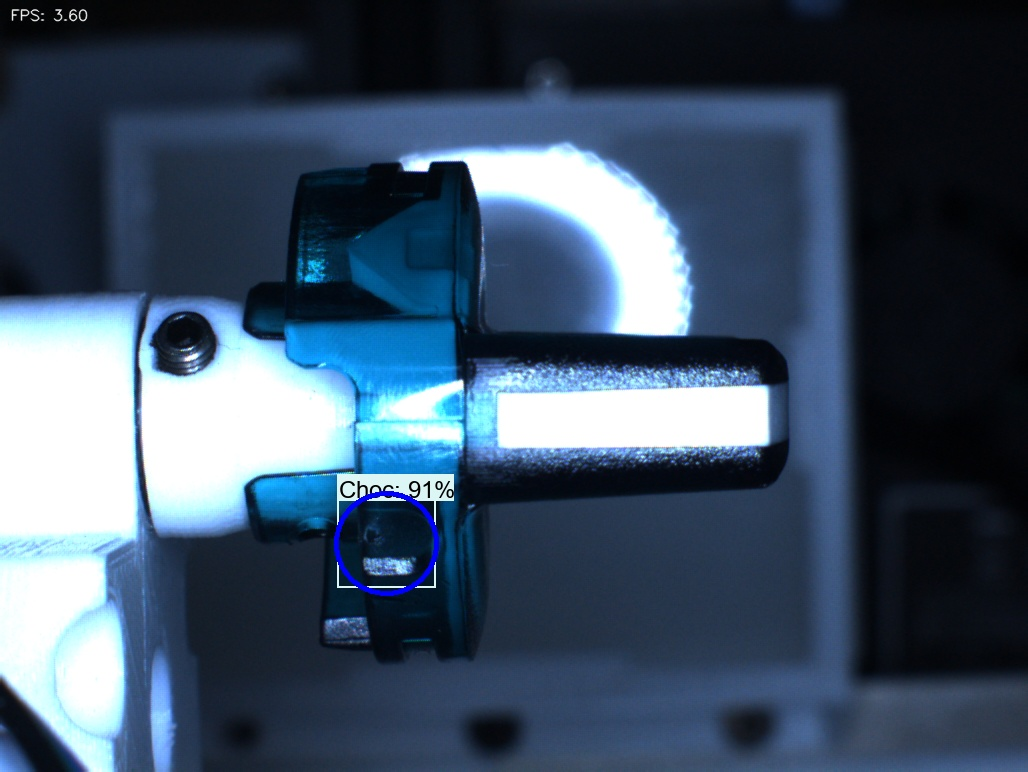DentOk: (321, 213, 398, 299)
